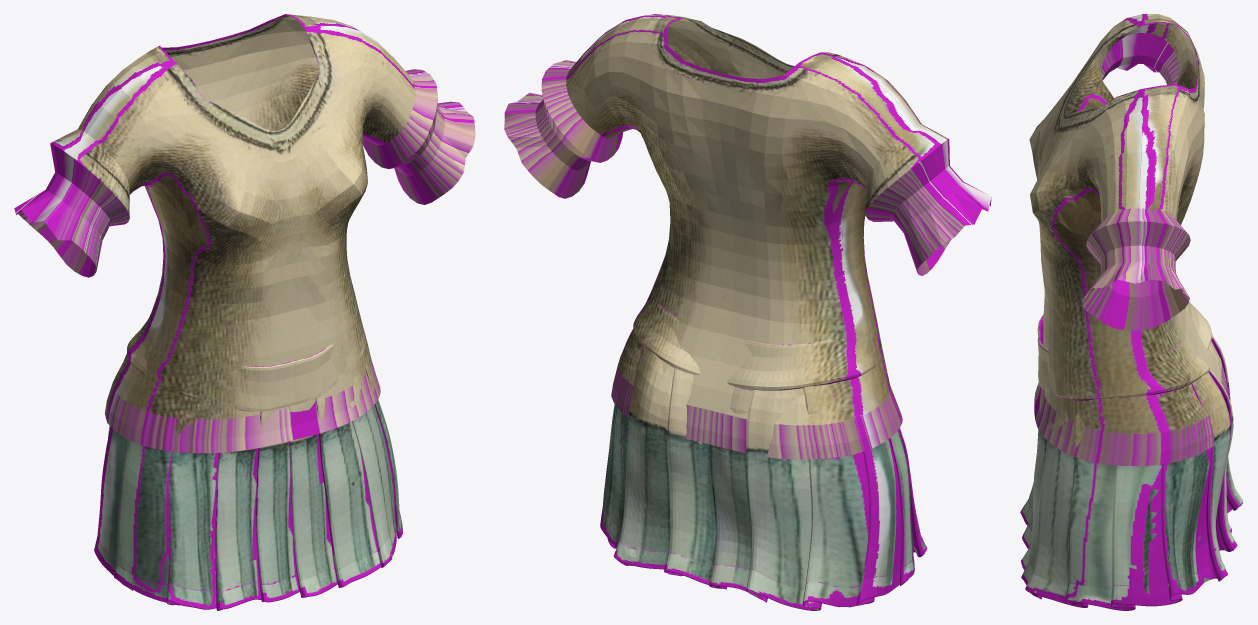
The picture shows the model from 3 angles, left to right: view 1: azimuth 30°, elevation 25°; view 2: azimuth 150°, elevation 25°; view 3: azimuth 270°, elevation 25°; orthographic projection. The views are drawn at different scales.
Bounding box in the file's own units: 0.7301 × 0.8116 × 0.3227.
1 material, 1 textured.
